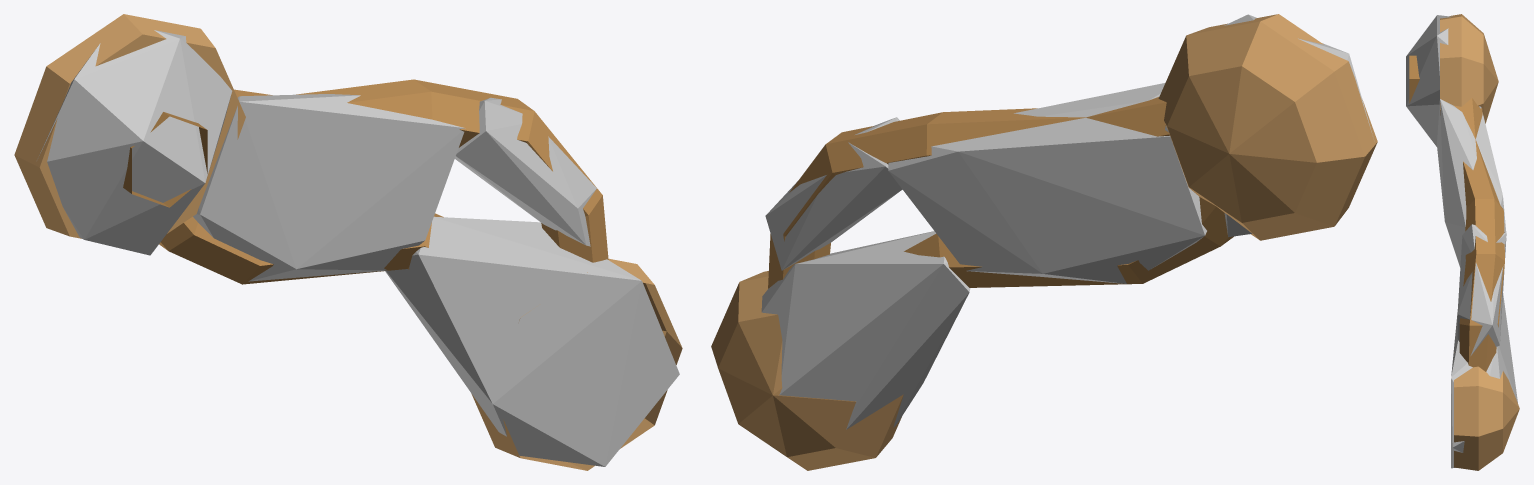
The model's file is SM_Prop_Viewing_Scope_01_Arm_02.fbx.
3 renders of one model, left to right at view 1: azimuth 30°, elevation 25°; view 2: azimuth 150°, elevation 25°; view 3: azimuth 270°, elevation 25°, orthographic. The views are drawn at different scales.
Visible parts, largest first — view 1: SM_Prop_Viewing_Scope_01_Arm_02_ConvexHulls, SM_Prop_Viewing_Scope_01_Arm_02; view 2: SM_Prop_Viewing_Scope_01_Arm_02_ConvexHulls, SM_Prop_Viewing_Scope_01_Arm_02; view 3: SM_Prop_Viewing_Scope_01_Arm_02, SM_Prop_Viewing_Scope_01_Arm_02_ConvexHulls.
Boxes of the visible parts, box(x1,y1,x2,y2) form: SM_Prop_Viewing_Scope_01_Arm_02_ConvexHulls: box(37, 30, 679, 466); SM_Prop_Viewing_Scope_01_Arm_02: box(14, 14, 682, 470); SM_Prop_Viewing_Scope_01_Arm_02_ConvexHulls: box(761, 14, 1372, 429); SM_Prop_Viewing_Scope_01_Arm_02: box(711, 14, 1377, 470); SM_Prop_Viewing_Scope_01_Arm_02: box(1409, 14, 1519, 470); SM_Prop_Viewing_Scope_01_Arm_02_ConvexHulls: box(1406, 15, 1517, 468).
Bounding box in the file's own units: 42.48 × 10.99 × 34.65.
Materials: 2 (1 with a texture image).
